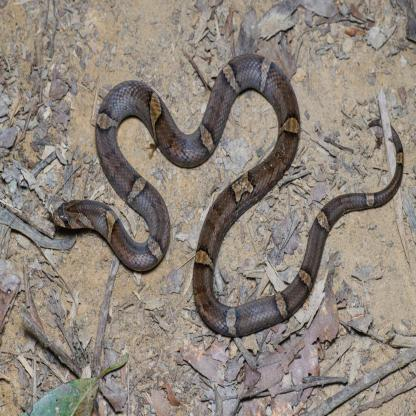snakes: (51, 44, 414, 343)
